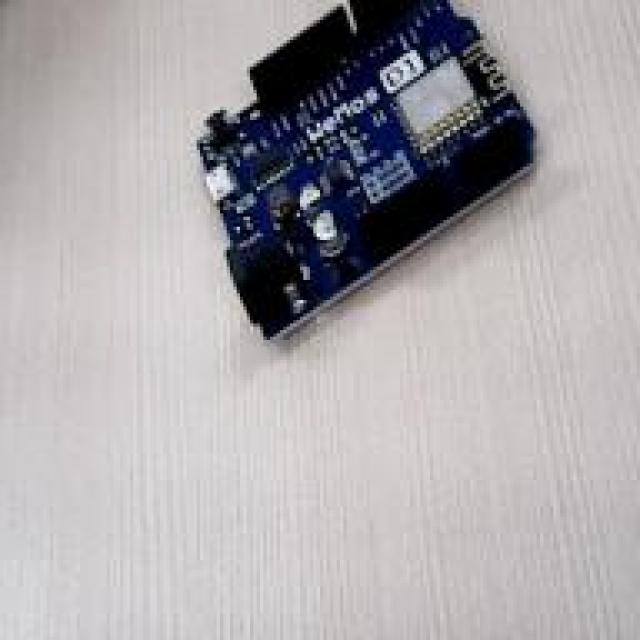Wemos: (198, 1, 531, 334)
